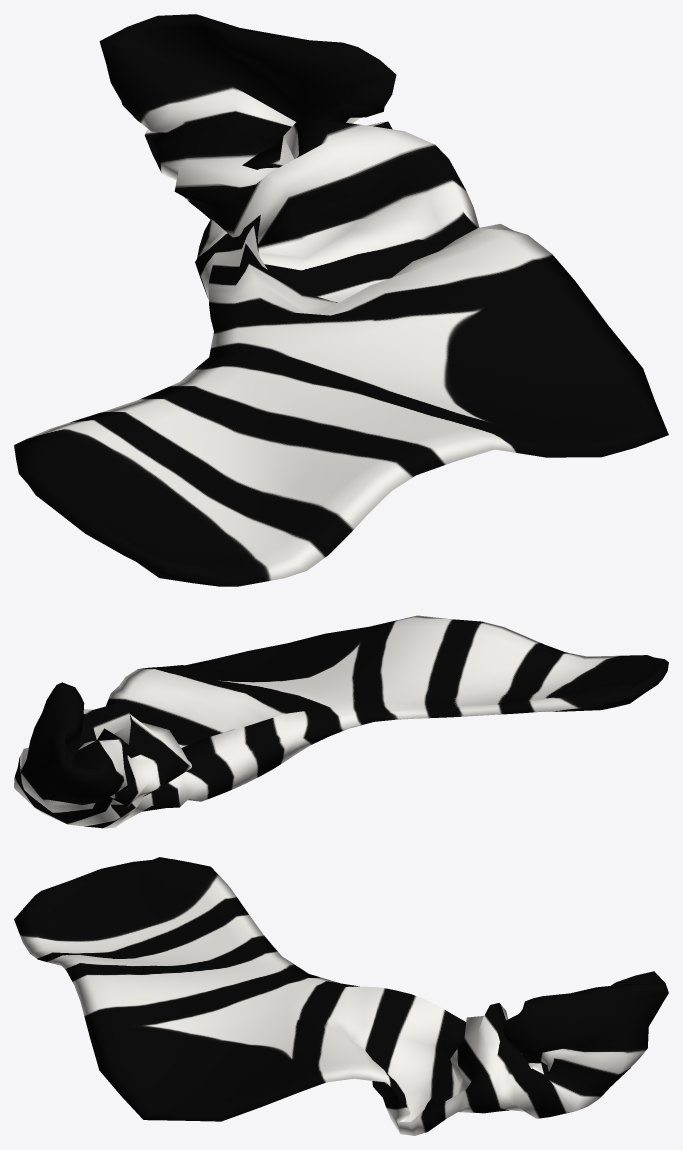
The model's file is sock2.fbx.
The picture shows the model from 3 angles, top to bottom: view 1: azimuth 30°, elevation 25°; view 2: azimuth 150°, elevation 25°; view 3: azimuth 270°, elevation 25°; orthographic projection. The views are drawn at different scales.
Parts seen in each view (by area): view 1: Socks.001; view 2: Socks.001; view 3: Socks.001.
Boxes of the visible parts, <box> form: Socks.001: <box>14,14,668,586</box>; Socks.001: <box>14,615,668,828</box>; Socks.001: <box>14,857,668,1135</box>.
Bounding box in the file's own units: 286 × 80.14 × 371.
